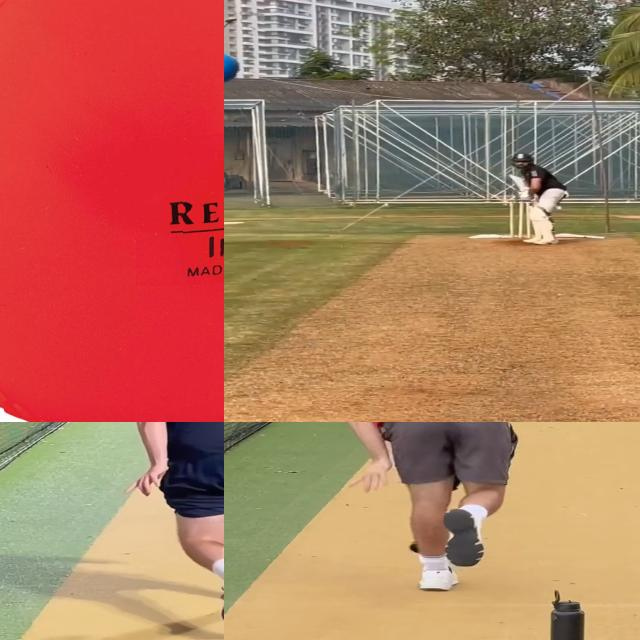Cricket ball: (0, 0, 224, 422)
Stumps: (508, 200, 532, 240)
